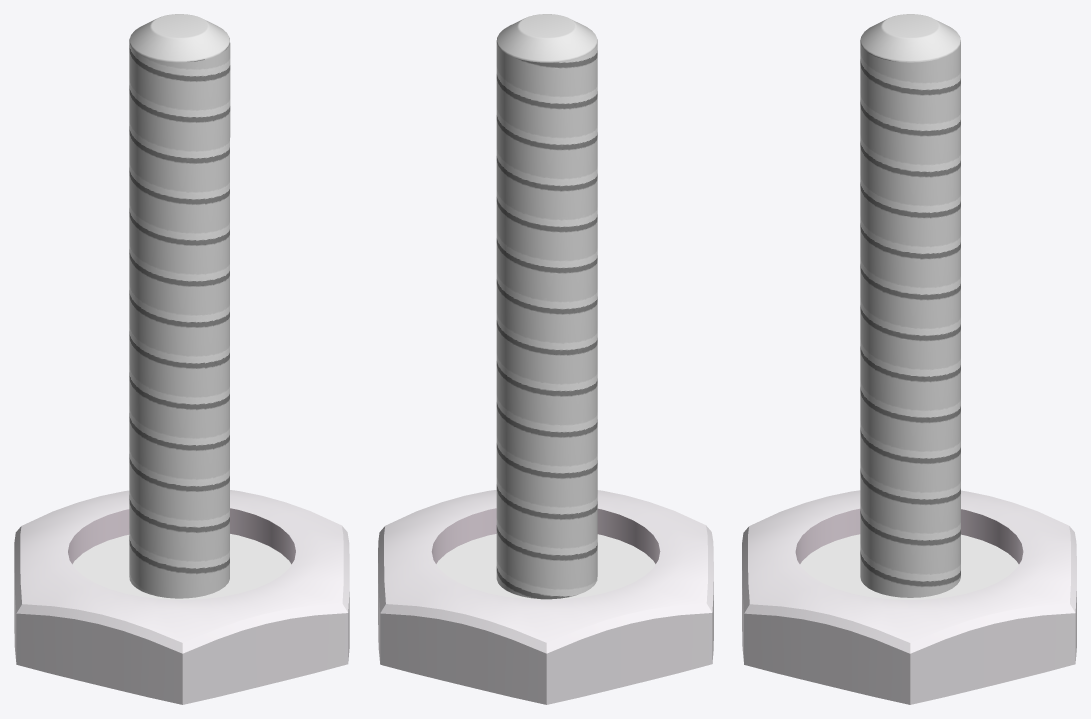
File: holder 3.fbx
3 views of the same model, side by side, from view 1: azimuth 30°, elevation 25°; view 2: azimuth 150°, elevation 25°; view 3: azimuth 270°, elevation 25° (orthographic).
Parts seen in each view (by area): view 1: Renderer_02.001, Nut 1.008; view 2: Renderer_02.001, Nut 1.008; view 3: Renderer_02.001, Nut 1.008.
Part boxes in pixels (bbox=[...]): Renderer_02.001: bbox=[129, 14, 230, 598]; Nut 1.008: bbox=[14, 490, 349, 704]; Renderer_02.001: bbox=[496, 14, 597, 599]; Nut 1.008: bbox=[378, 490, 713, 704]; Renderer_02.001: bbox=[860, 14, 960, 597]; Nut 1.008: bbox=[742, 490, 1076, 704].
Bounding box in the file's own units: 2.56 × 4.41 × 2.24.
